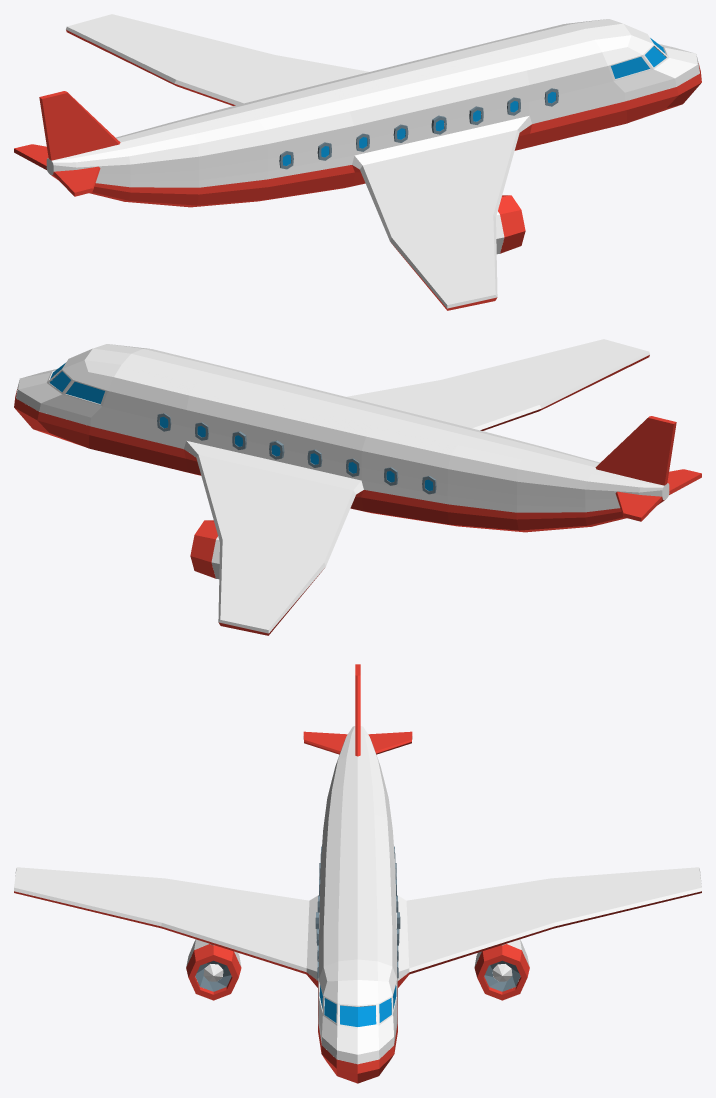
File: Airplane 1.compressed.glb
3 renders of one model, top to bottom at view 1: azimuth 30°, elevation 25°; view 2: azimuth 150°, elevation 25°; view 3: azimuth 270°, elevation 25°, orthographic. The views are drawn at different scales.
Parts seen in each view (by area): view 1: Cube.027_Cube.024; view 2: Cube.027_Cube.024; view 3: Cube.027_Cube.024.
Boxes of the visible parts, x1,y1,x2,y2 form: Cube.027_Cube.024: (14,14,701,310); Cube.027_Cube.024: (14,339,701,635); Cube.027_Cube.024: (14,664,701,1083).
Bounding box in the file's own units: 37.35 × 10.1 × 37.59.
